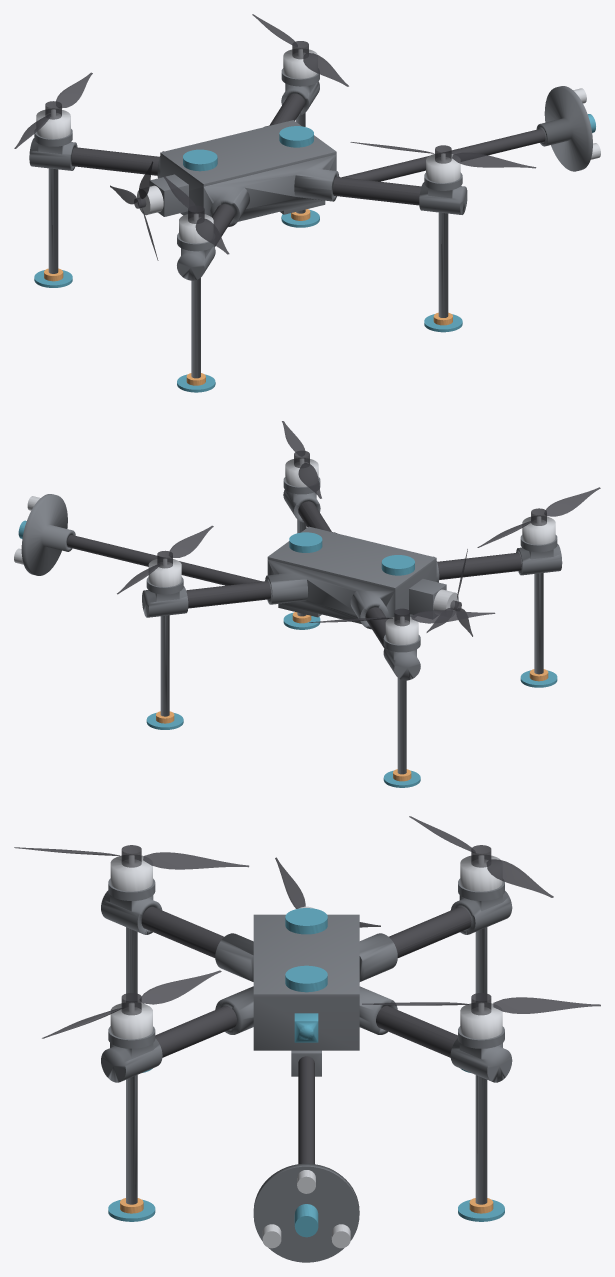
File: argus.glb
The picture shows the model from 3 angles, top to bottom: view 1: azimuth 30°, elevation 25°; view 2: azimuth 150°, elevation 25°; view 3: azimuth 270°, elevation 25°; orthographic projection. The views are drawn at different scales.
Visible parts, largest first — view 1: Argus V1; view 2: Argus V1; view 3: Argus V1.
Part boxes in pixels (box(x1,y1,x2,y2)): Argus V1: box(14, 14, 600, 392); Argus V1: box(14, 421, 600, 787); Argus V1: box(14, 816, 600, 1262).
Size of the model in its own units: 0.6426 by 0.2024 by 0.4986.
